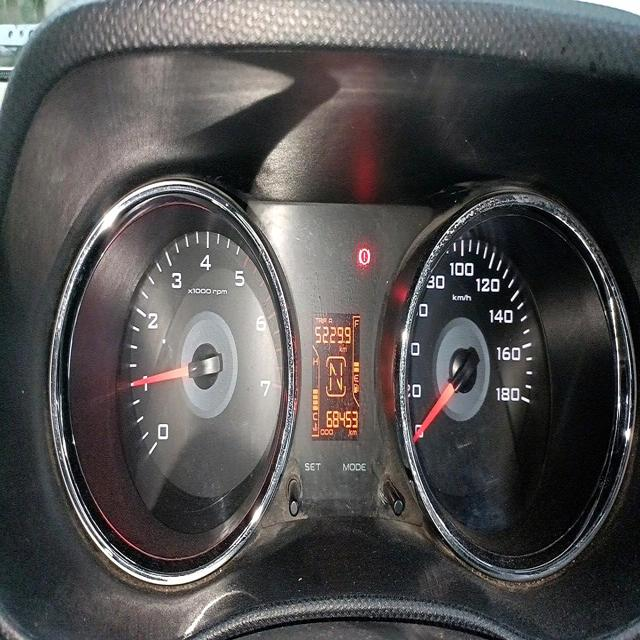odometer: (324, 406, 359, 431)
